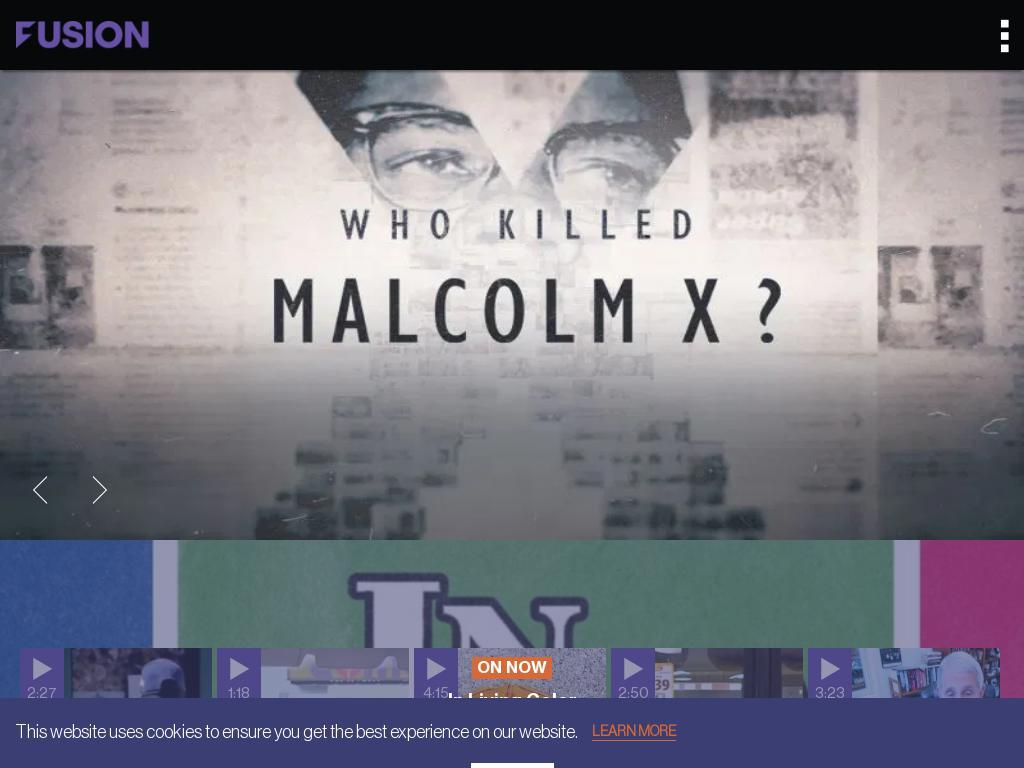button: (0, 70, 1024, 540), (25, 648, 212, 768), (222, 648, 409, 768), (419, 648, 606, 768), (616, 648, 803, 768), (813, 648, 1000, 768), (455, 741, 570, 759), (1010, 648, 1024, 768), (20, 470, 60, 510), (80, 470, 120, 510), (592, 725, 676, 741), (996, 10, 1014, 80), (470, 763, 554, 768)
heading: (20, 80, 1004, 613), (15, 10, 150, 60), (447, 692, 577, 710), (490, 712, 534, 730)
image: (0, 70, 1024, 540), (0, 540, 1024, 768), (25, 648, 212, 768), (222, 648, 409, 768), (419, 648, 606, 768), (616, 648, 803, 768), (813, 648, 1000, 768), (1010, 648, 1024, 768)
link: (20, 648, 64, 706), (217, 648, 261, 706), (414, 648, 458, 706), (611, 648, 655, 706), (808, 648, 852, 706), (1005, 648, 1024, 706)
text: (15, 718, 578, 746), (996, 0, 1024, 79), (472, 657, 552, 679)
